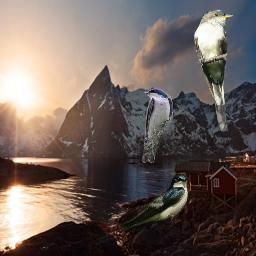Cuckoo: (194, 9, 234, 132)
Swallow: (120, 173, 189, 234), (141, 88, 173, 163)
